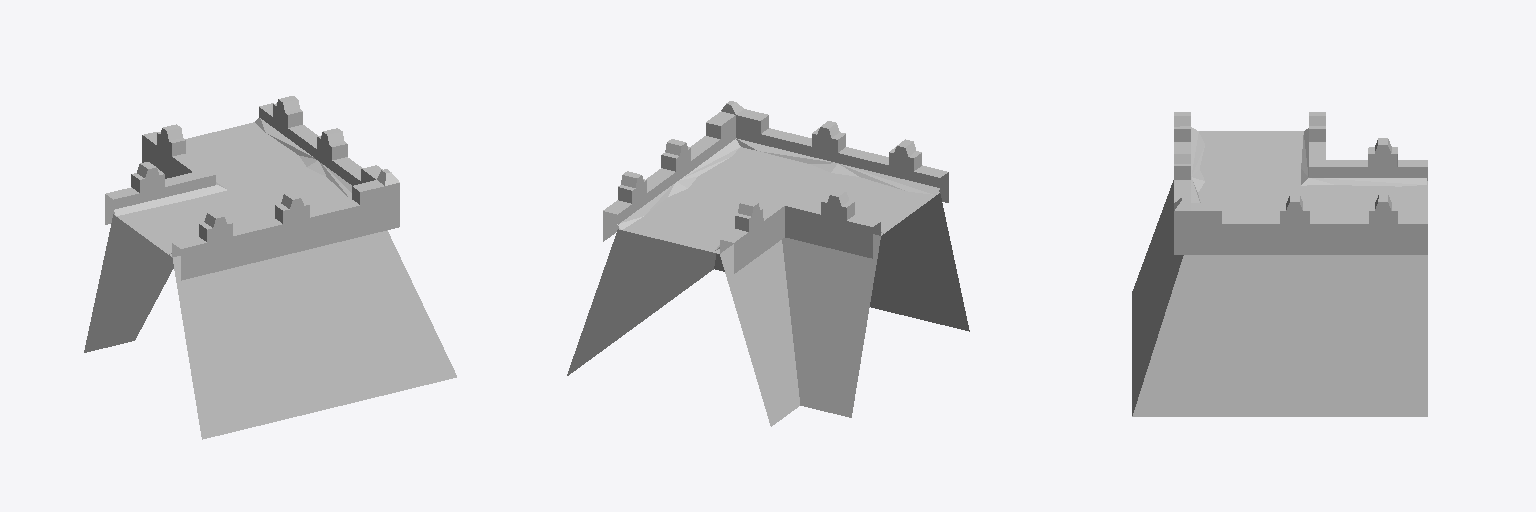
The model's file is templeTurnB_prefab.obj.
The picture shows the model from 3 angles: view 1: azimuth 30°, elevation 25°; view 2: azimuth 150°, elevation 25°; view 3: azimuth 270°, elevation 25°; orthographic projection.
Visible parts, largest first — view 1: Object77-Pivot; view 2: Object77-Pivot; view 3: Object77-Pivot.
Part boxes in pixels (x1,y1,x2,y2): Object77-Pivot: (84,96,456,439); Object77-Pivot: (567,101,969,426); Object77-Pivot: (1132,112,1427,416).
Bounding box in the file's own units: 50.02 × 36.8 × 50.01.